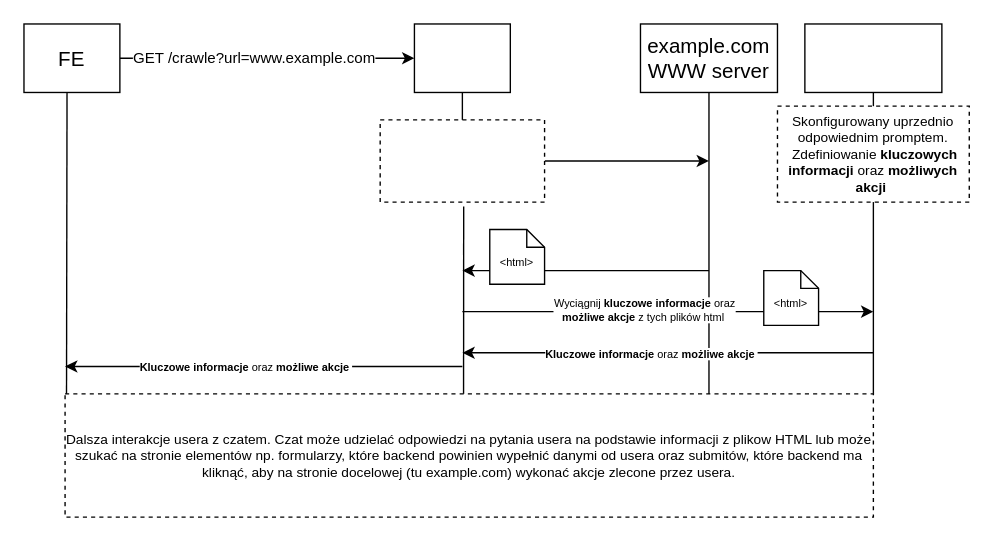
Image size: 993x541. Some labels were removed from this diagram. The shapes that lost their labels are listed below. From the top down, each one's centre as x and y in pixels, then its label:
At point 461,57: "BE".
At point 873,57: "GPT-4o API".
At point 462,160: "Crawler pobiera cały dostępny kontent HTML ze strony głównej i jej podstron.".
